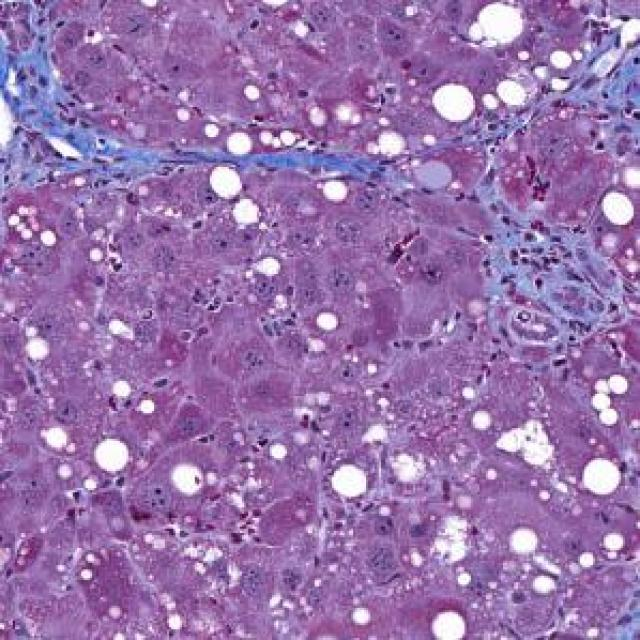fibrosis: (13, 70, 186, 194)
